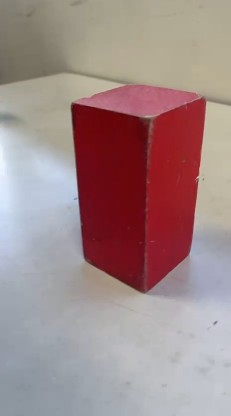red: (82, 99, 177, 272)
